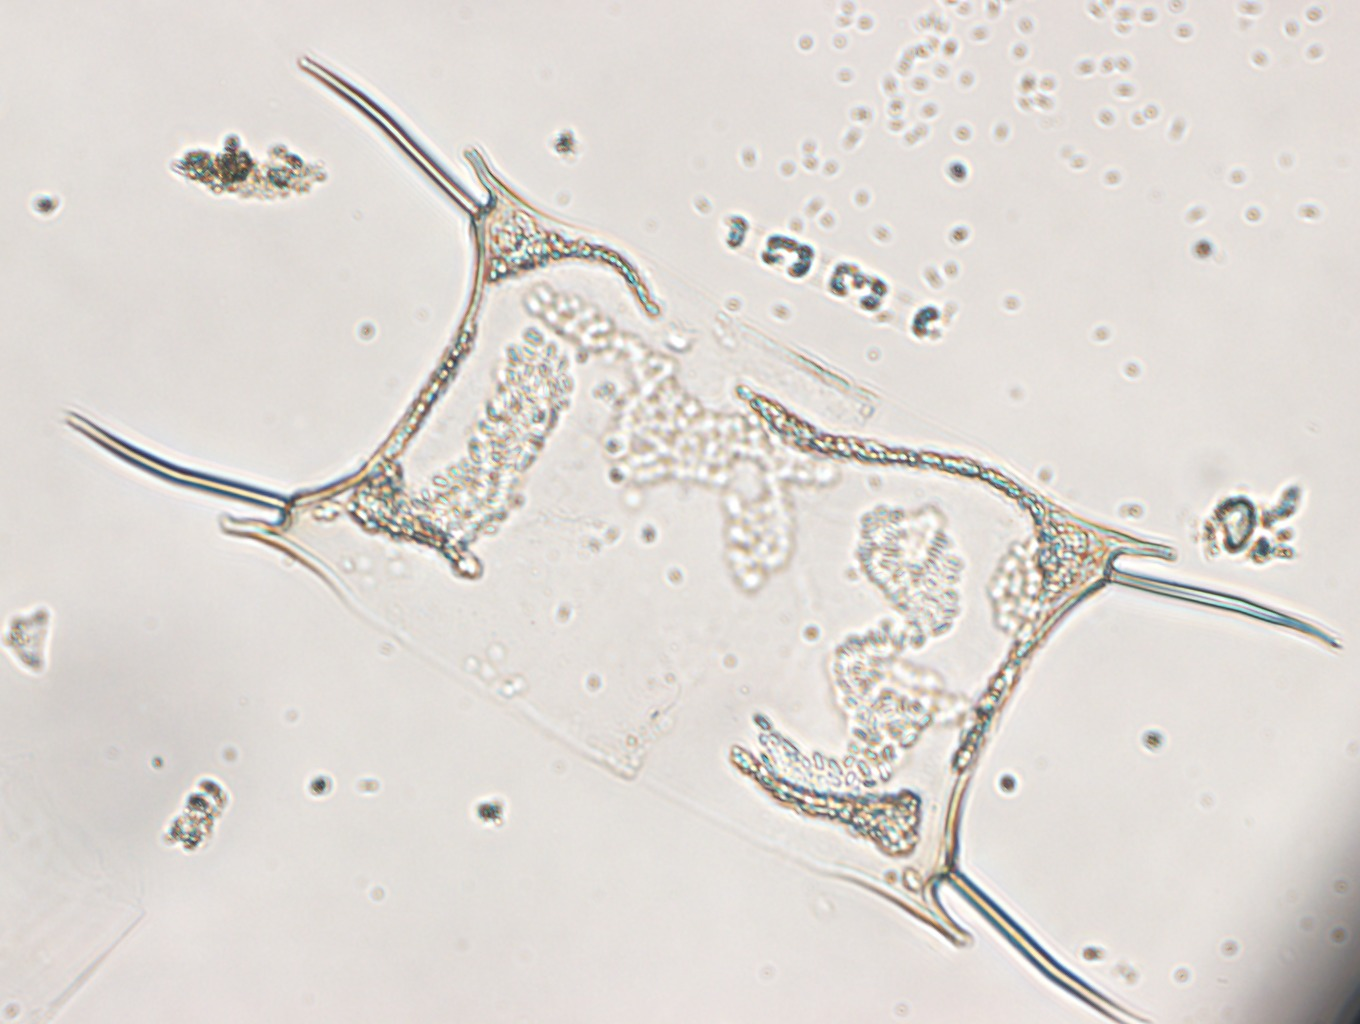biddulphia: (61, 58, 1342, 1024)
